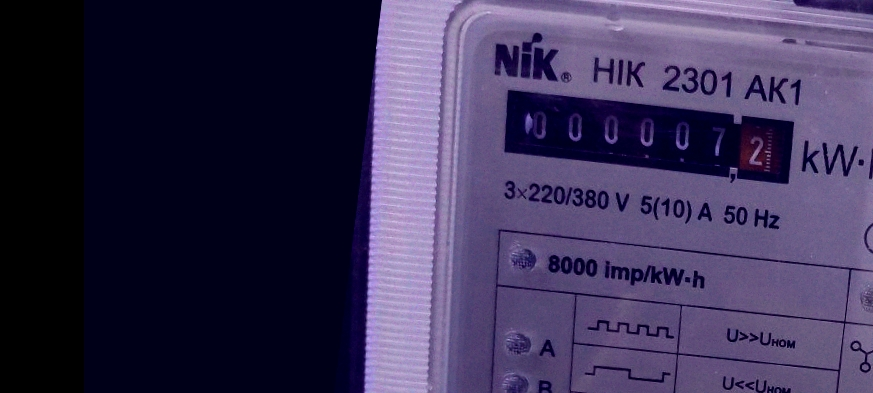0: (597, 109, 625, 149), (635, 113, 660, 153), (527, 105, 553, 143), (669, 116, 695, 154), (564, 108, 588, 145)
2: (744, 132, 769, 170)
7: (705, 121, 730, 161)
screen: (494, 79, 806, 195)
